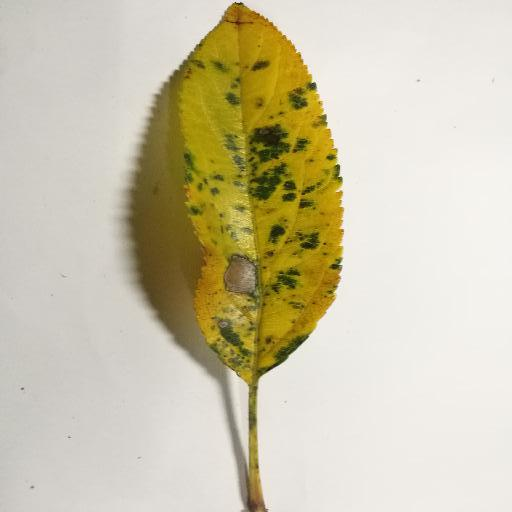Brown_Spot: (222, 242, 269, 286)
